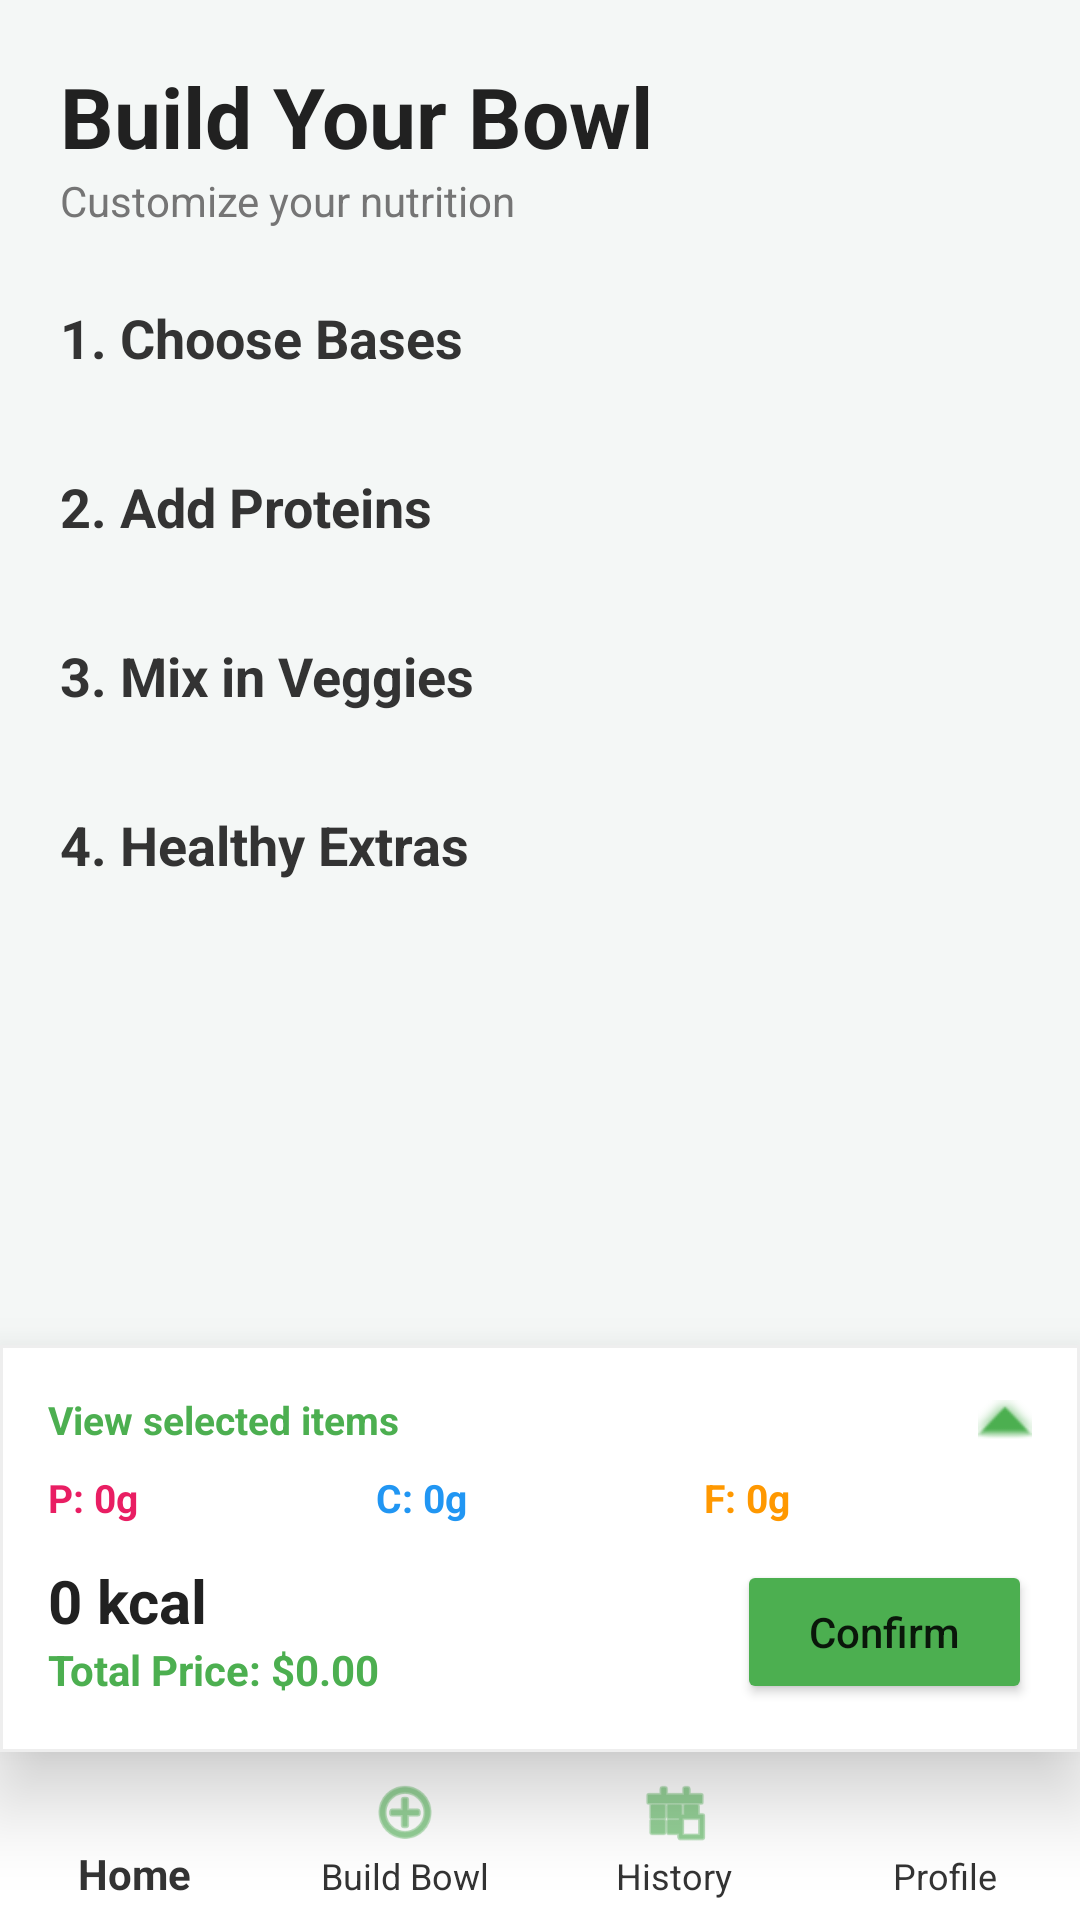

Point at icon controls on the screen. Image size 1080x1920, points as (x=x, y=y).
arrow up float: (x=1005, y=1420)
